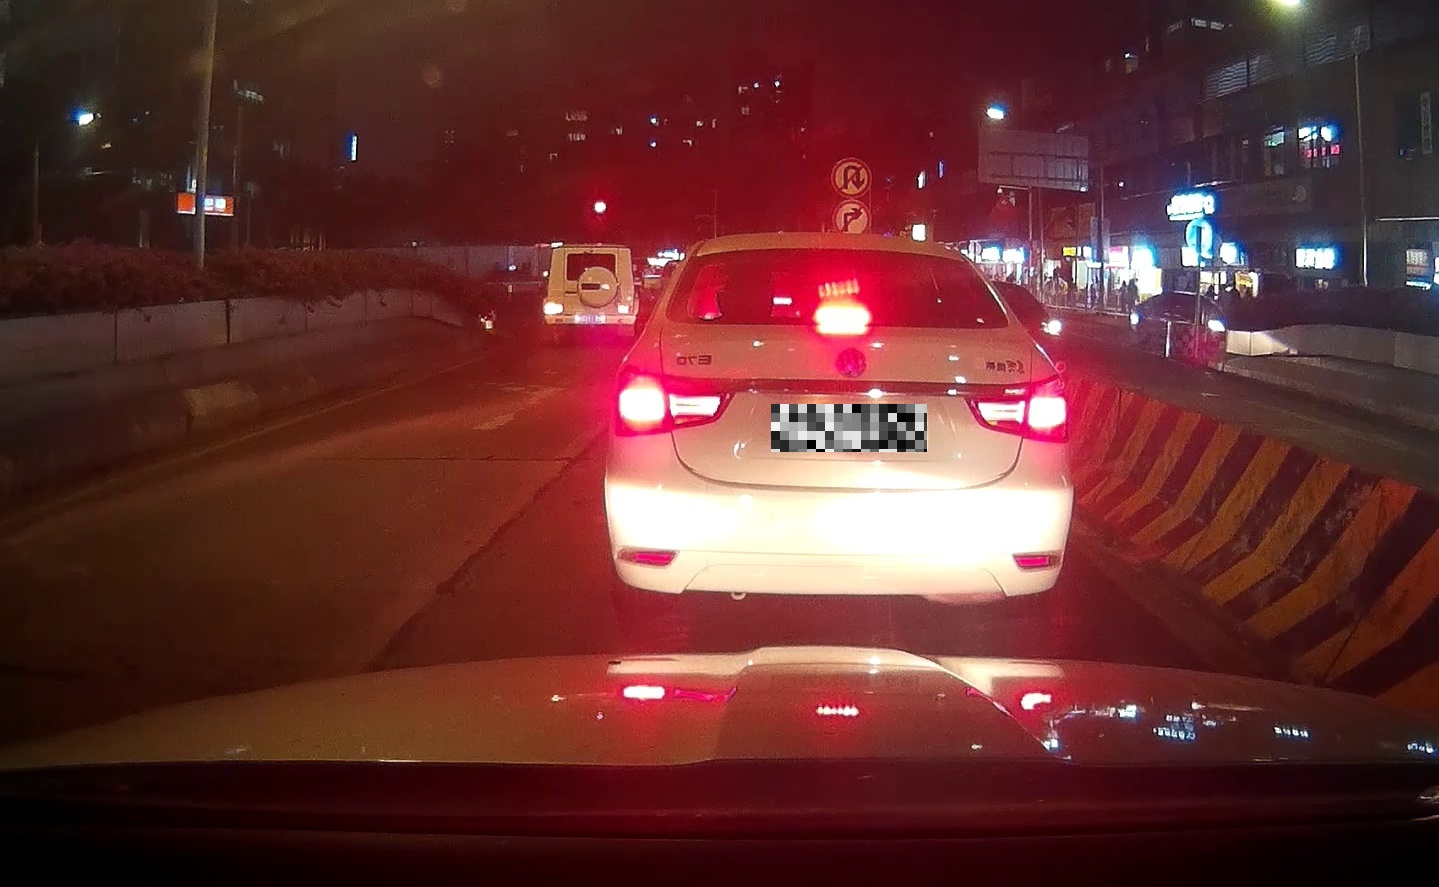L_light: (614, 363, 735, 435)
R_light: (964, 372, 1068, 443)
T_light: (813, 304, 870, 326)
night-brake: (604, 231, 1074, 646)
plate_1: (771, 404, 927, 452)
